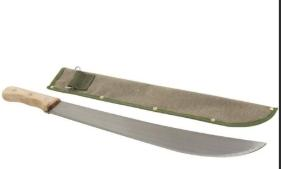MACHETTE: (0, 60, 277, 169)
